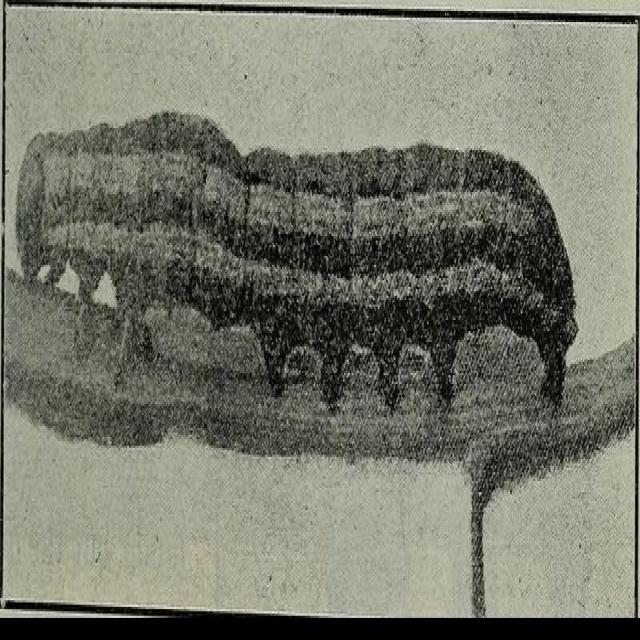armyworm: (17, 74, 584, 460)
